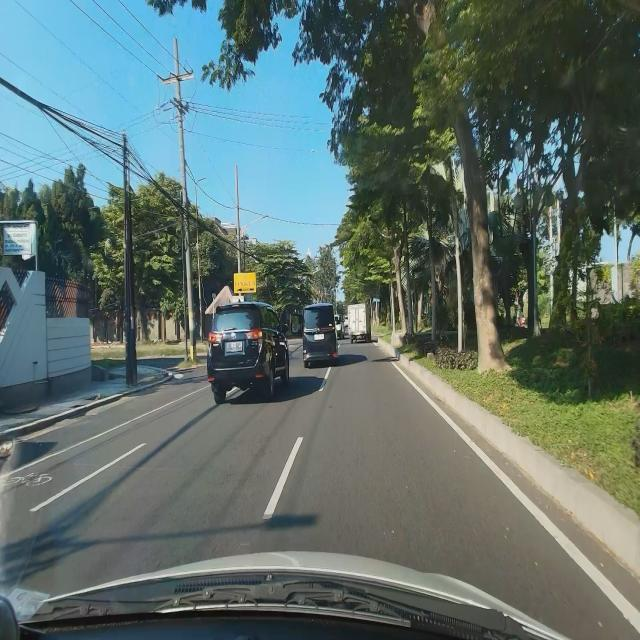car: (205, 300, 290, 405), (302, 300, 338, 370)
license-plate: (226, 340, 243, 352), (314, 333, 324, 341)
truck: (347, 302, 372, 345)
